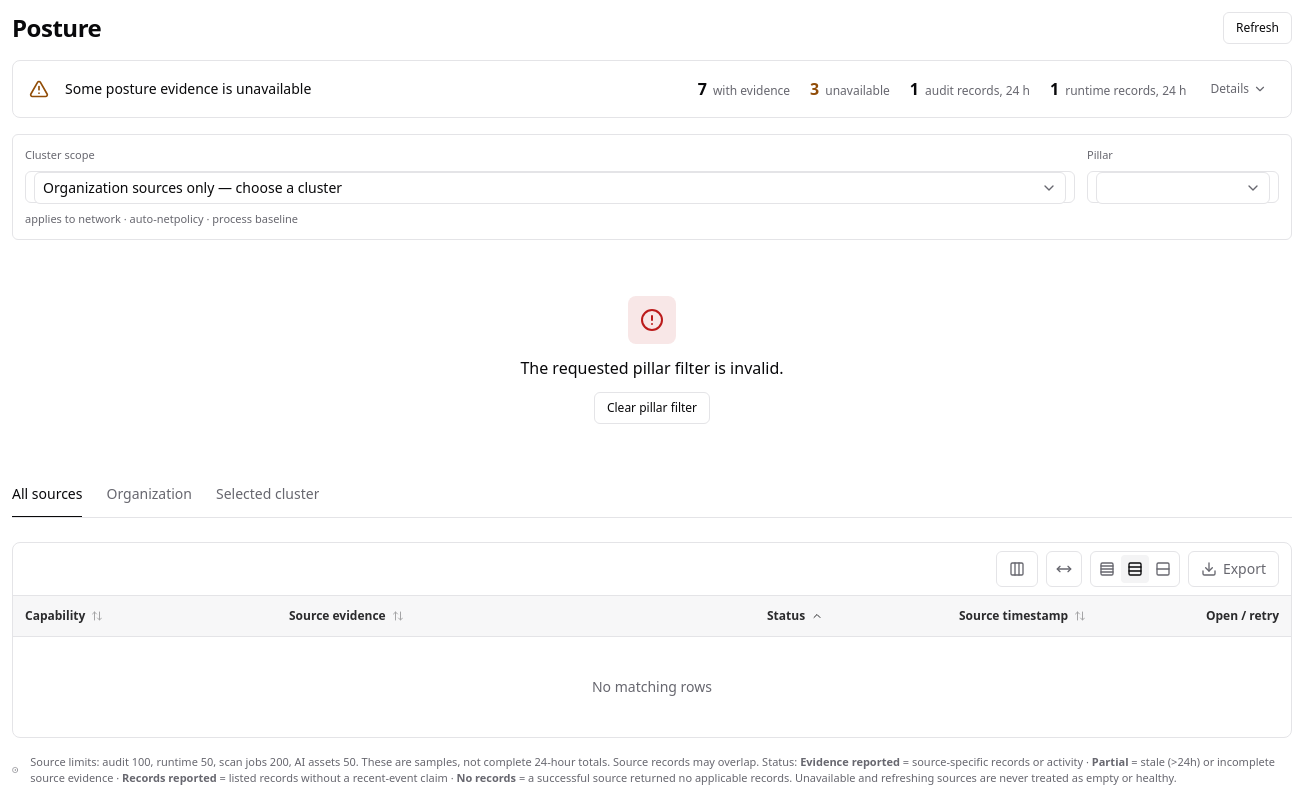
Test case: invalid pillar URLs have truthful recovery instead of silently broadening the workspace
The image size is (1304, 812).
Click the button "Clear pillar filter" at (652, 408), box [594,392,710,424]
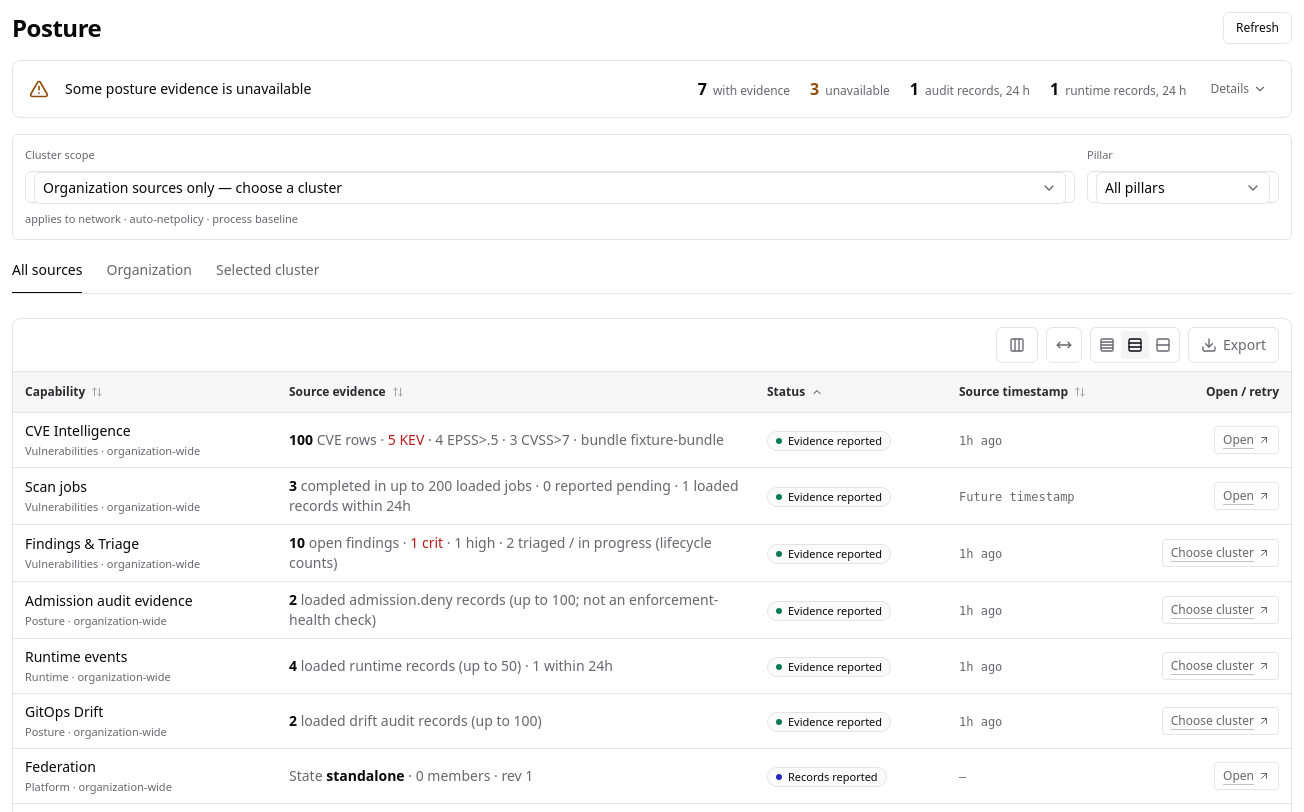
Check: the row with test id "coverage-row" shows "fixture-bundle", box [630,430,724,448]
